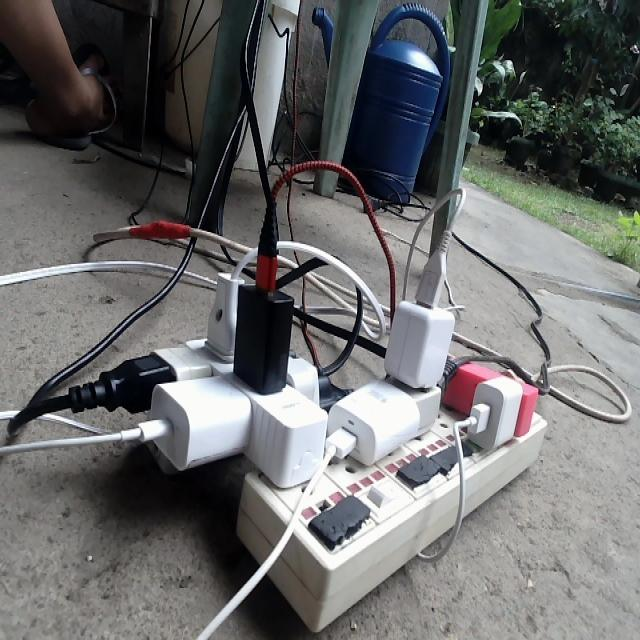-: (65, 192, 545, 628)
